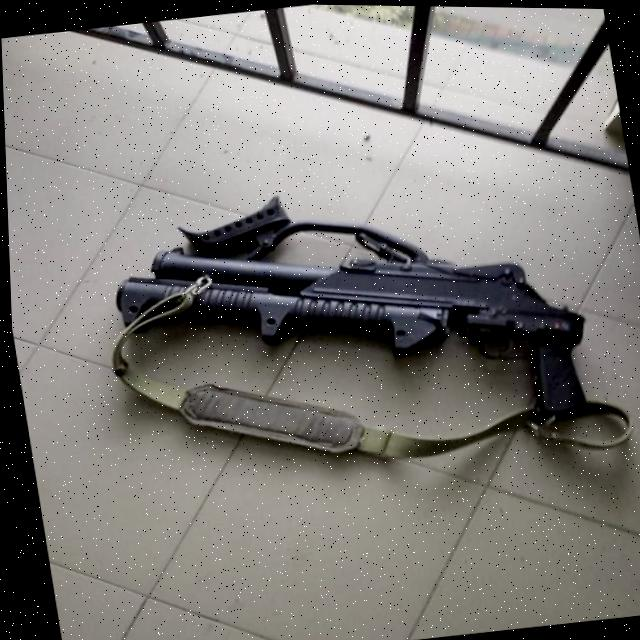firearm: (98, 193, 598, 469)
